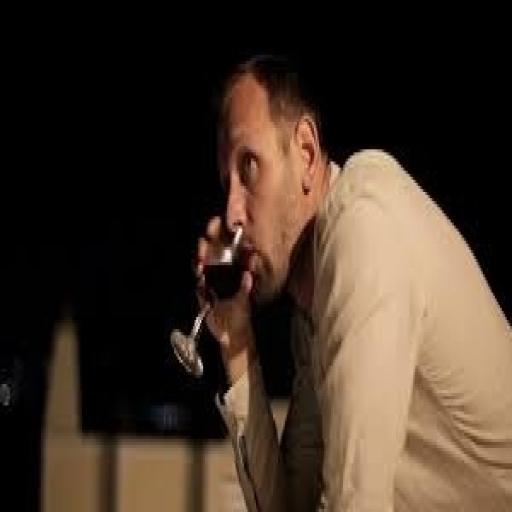drinking: (169, 219, 251, 378)
